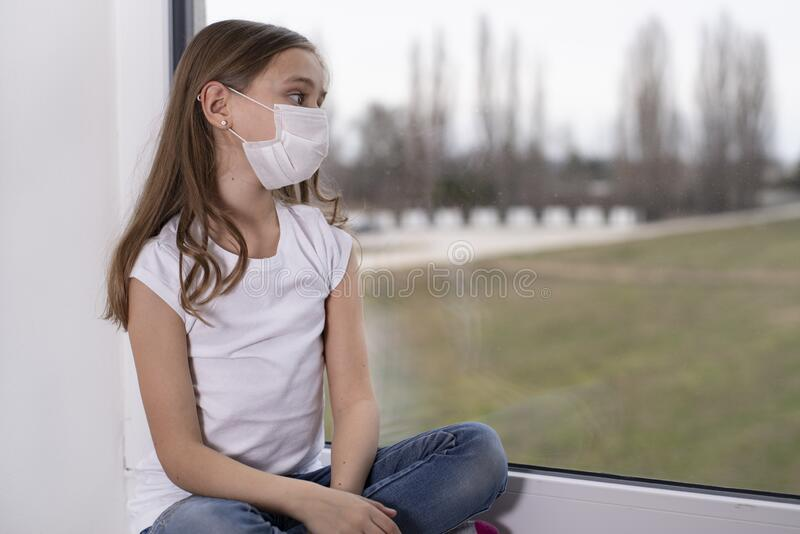with_mask: (168, 18, 358, 229)
